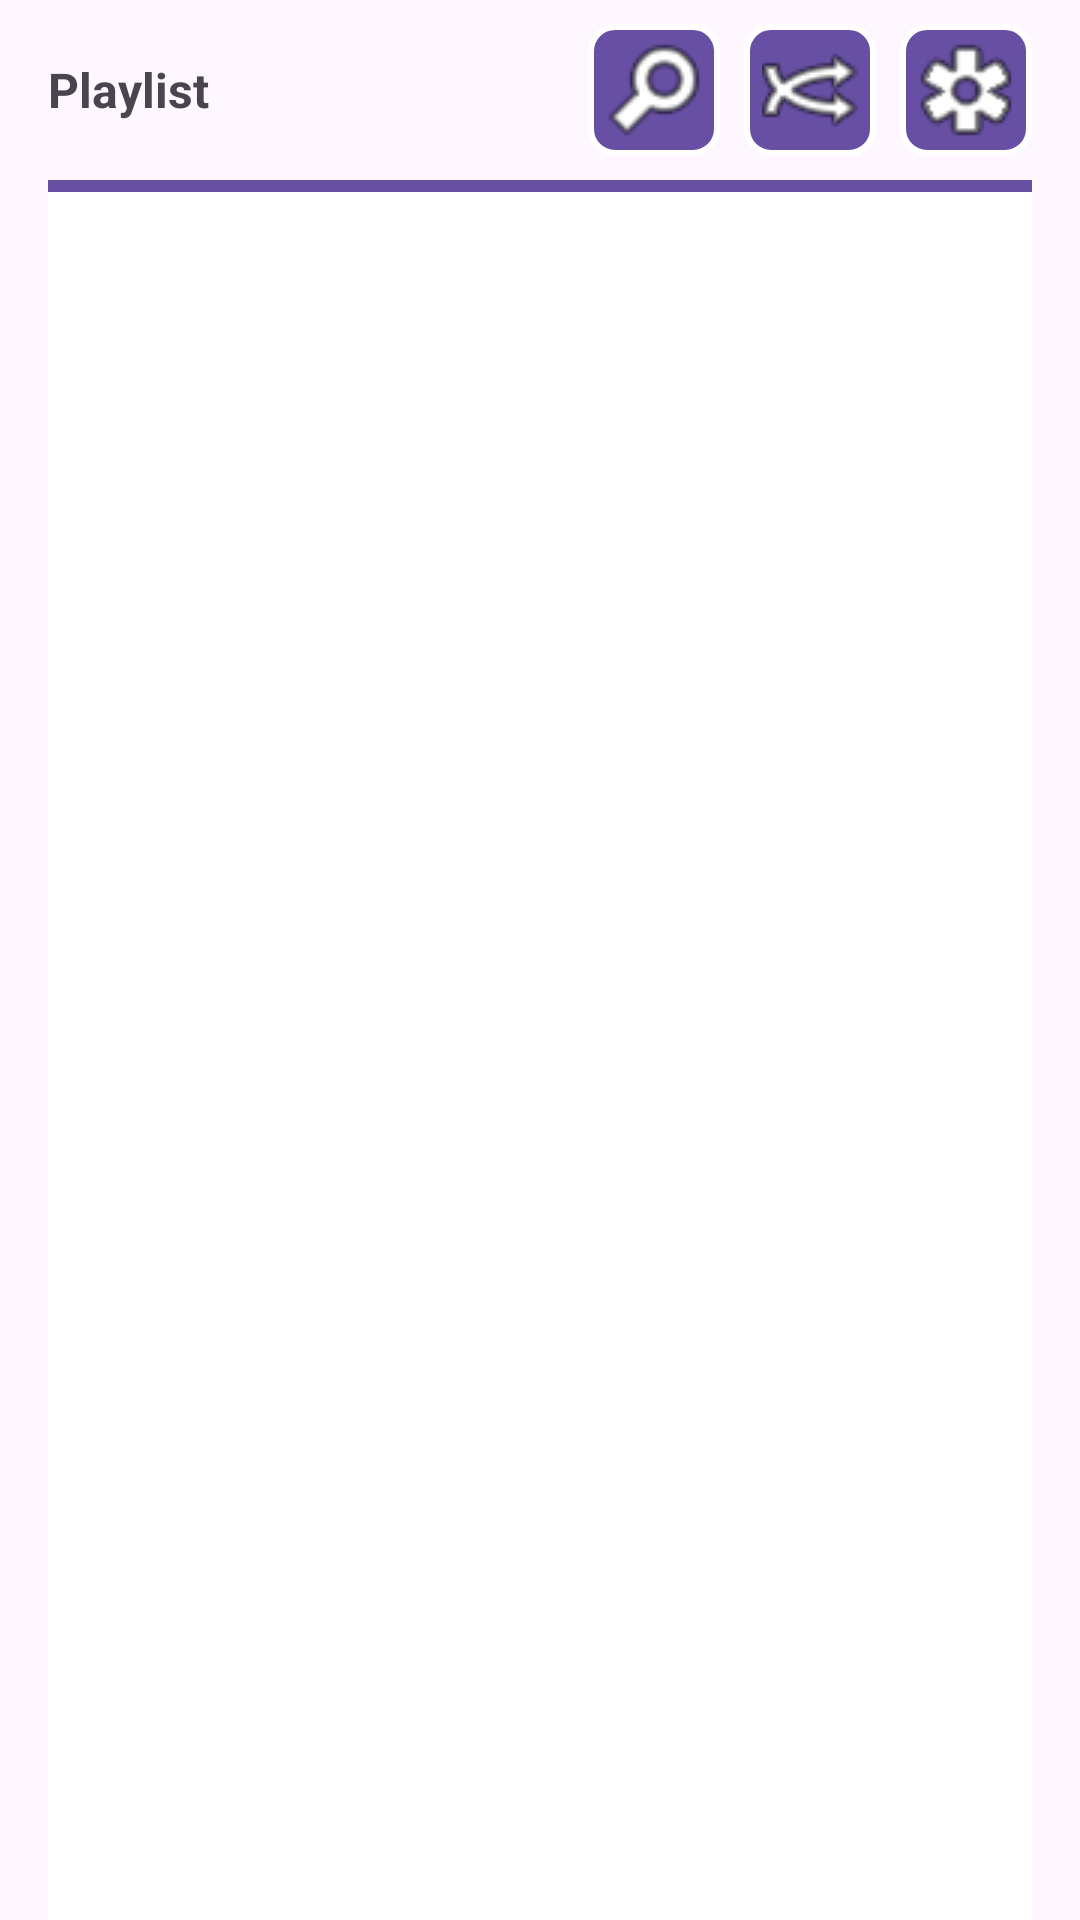

Where to tap for icons on this 1080px x 1920px app screen, as (x,y):
gear: (966,90)
loupe: (654,90)
shuffle: (810,90)
